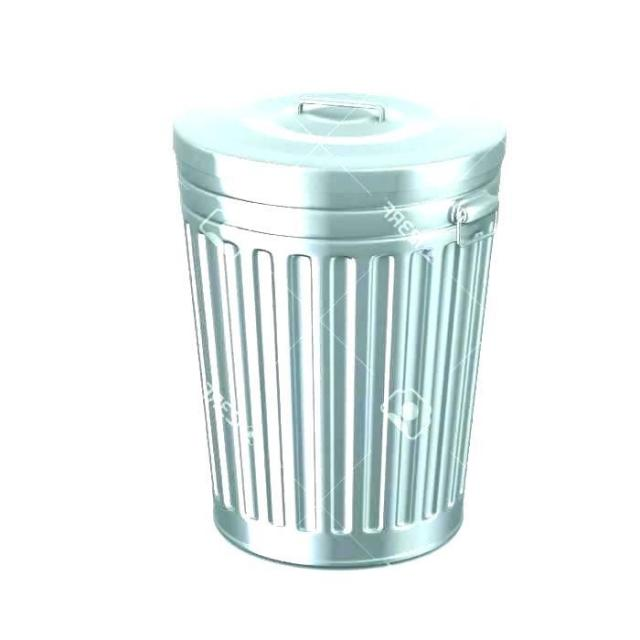metel: (165, 82, 524, 582)
